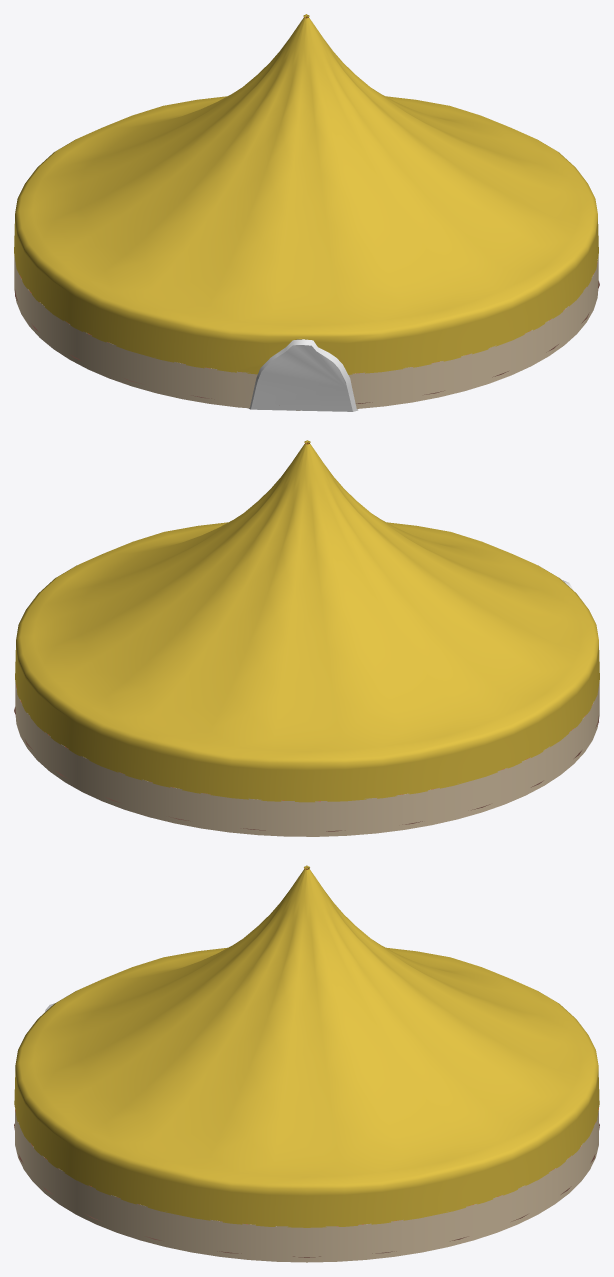
File: tent_1.fbx
3 views of the same model, one above another, from view 1: azimuth 30°, elevation 25°; view 2: azimuth 150°, elevation 25°; view 3: azimuth 270°, elevation 25° (orthographic).
Parts seen in each view (by area): view 1: edge_ring, tent; view 2: edge_ring; view 3: edge_ring.
Part boxes in pixels (<box>): edge_ring: <box>14,14,598,410</box>; tent: <box>248,339,358,411</box>; edge_ring: <box>15,440,599,836</box>; edge_ring: <box>14,865,599,1262</box>.
Size of the model in its own units: 8775 by 4555 by 8770.
Materials: 4 (1 with a texture image).
